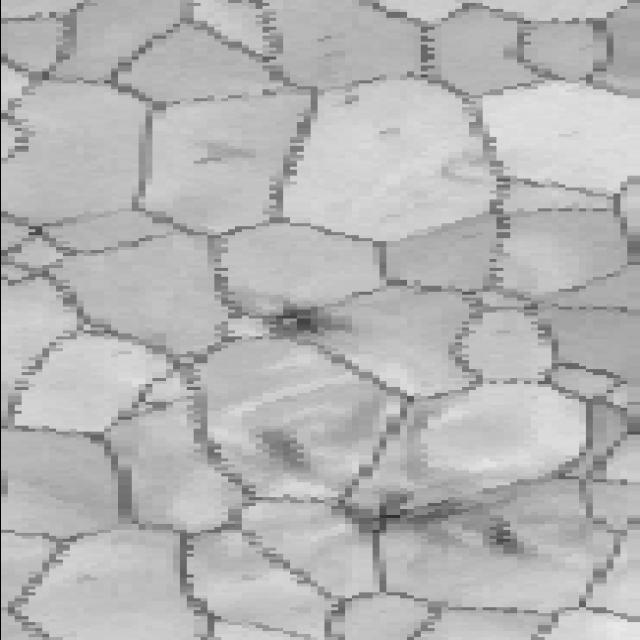good_void: (321, 474, 530, 558), (235, 301, 367, 348), (255, 432, 308, 477), (192, 141, 262, 167), (371, 123, 399, 138), (343, 95, 362, 107)
